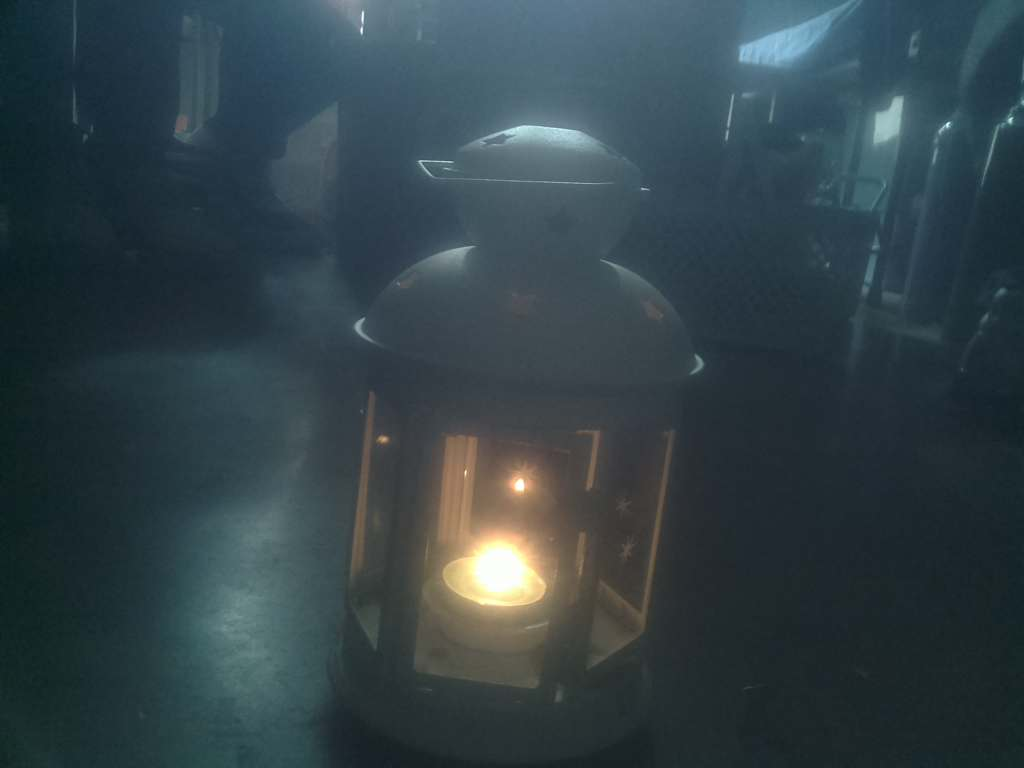fire: (428, 515, 561, 636)
